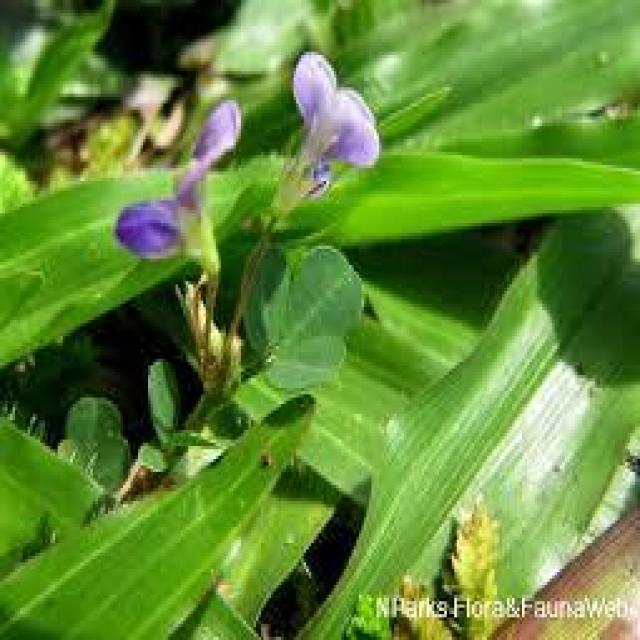organic waste: (113, 100, 251, 298), (282, 42, 388, 191)
